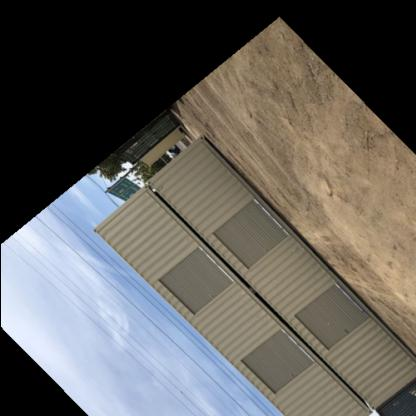Damage: (202, 291, 218, 306), (254, 244, 273, 255), (340, 324, 351, 340)
